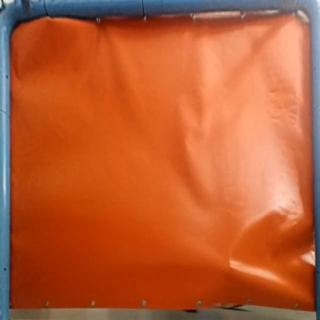Hit-hRxx: (224, 258, 240, 273)
